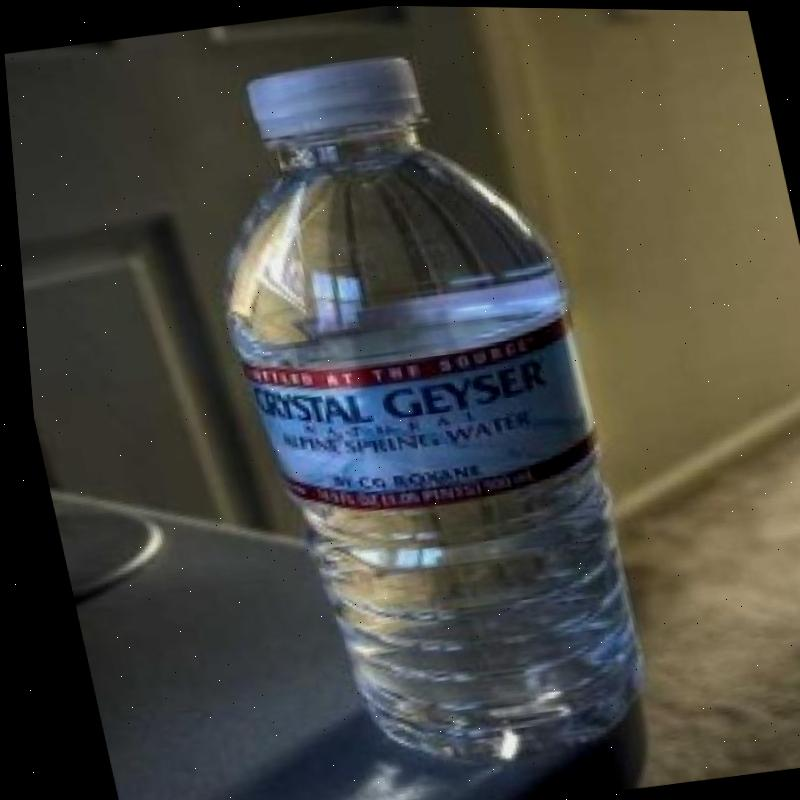botella: (167, 32, 656, 779)
